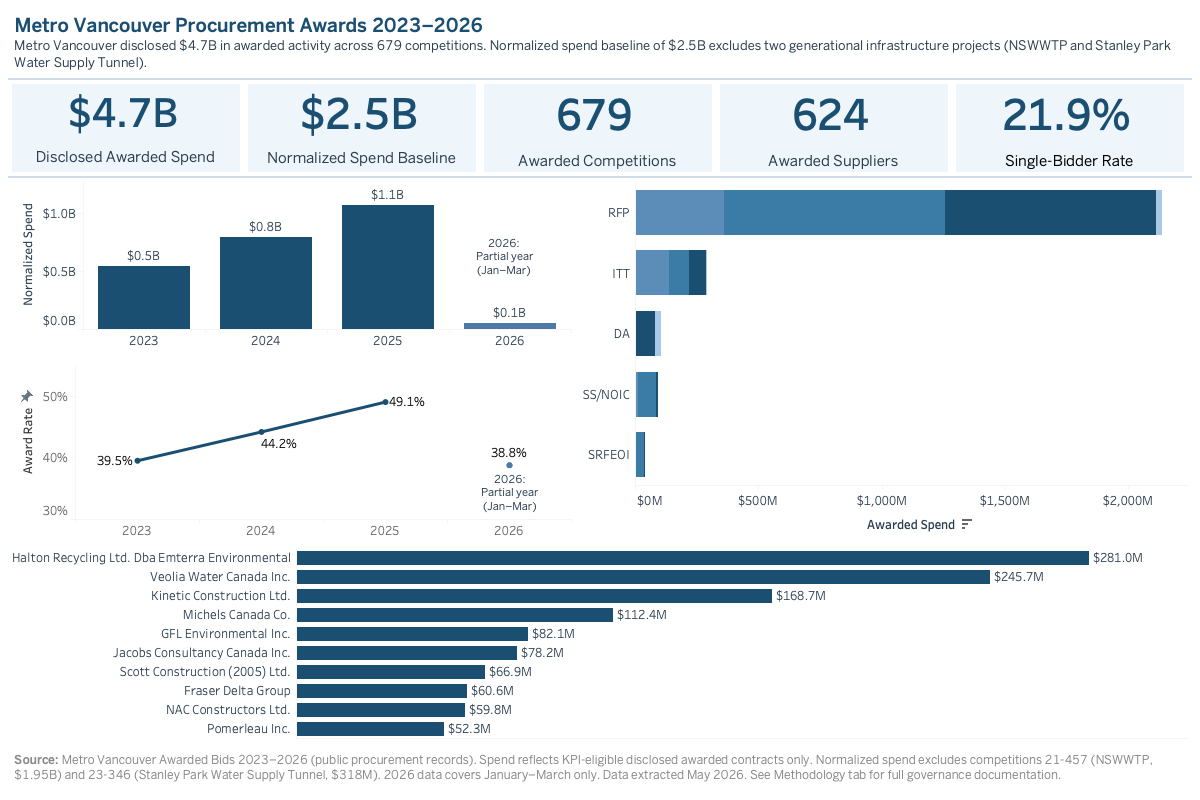

The page's visual inventory and layout, read from the dashboard file:
{"tool":"tableau","page":{"name":"Executive Summary","canvas":[1200,800],"ordinal":1},"visuals":[{"type":"text","box":[8,8,1184,70]},{"type":"blank","box":[8,78,1184,2]},{"type":"worksheet","title":"KPI Total Spend","mark":"Automatic","box":[8,80,236,96]},{"type":"worksheet","title":"KPI Normalized Spend","mark":"Automatic","box":[244,80,236,96]},{"type":"worksheet","title":"KPI Award Count","mark":"Automatic","box":[480,80,236,96]},{"type":"worksheet","title":"KPI Vendors Engaged","mark":"Automatic","box":[716,80,236,96]},{"type":"worksheet","title":"Single-Bidder Rate","mark":"Automatic","box":[952,80,236,96]},{"type":"blank","box":[8,176,1184,2]},{"type":"worksheet","title":"Annual Spend Trend (Excl. Major Infrastructure Projects)","mark":"Automatic","rows":["Calculation_0193861900640256"],"cols":["source_year"],"box":[8,178,567,183]},{"type":"worksheet","title":"Awards by Type ","mark":"Automatic","rows":["competition_type"],"cols":["Calculation_0088995825803264"],"box":[575,178,617,366]},{"type":"worksheet","title":"Award Decision Rate by Year","mark":"Line","rows":["Calculation_0088995828228100"],"cols":["source_year"],"box":[8,361,567,183]},{"type":"worksheet","title":"Vendor Leaderboard (Normalized)","mark":"Automatic","rows":["vendor_name_display"],"cols":["Calculation_0088995826962433"],"box":[8,544,1184,200]},{"type":"text","box":[8,744,1184,47]}]}

Visuals, with their boxes in screenshot pixels (x1, y1, x2, y2), scaled from the page's 1200x800 canvas onto the 1200x800 screenshot:
text: Rect(8, 8, 1192, 78)
blank: Rect(8, 78, 1192, 80)
"KPI Total Spend" worksheet: Rect(8, 80, 244, 176)
"KPI Normalized Spend" worksheet: Rect(244, 80, 480, 176)
"KPI Award Count" worksheet: Rect(480, 80, 716, 176)
"KPI Vendors Engaged" worksheet: Rect(716, 80, 952, 176)
"Single-Bidder Rate" worksheet: Rect(952, 80, 1188, 176)
blank: Rect(8, 176, 1192, 178)
"Annual Spend Trend (Excl. Major Infrastructure Projects)" worksheet: Rect(8, 178, 575, 361)
"Awards by Type " worksheet: Rect(575, 178, 1192, 544)
"Award Decision Rate by Year" worksheet (Line marks): Rect(8, 361, 575, 544)
"Vendor Leaderboard (Normalized)" worksheet: Rect(8, 544, 1192, 744)
text: Rect(8, 744, 1192, 791)
